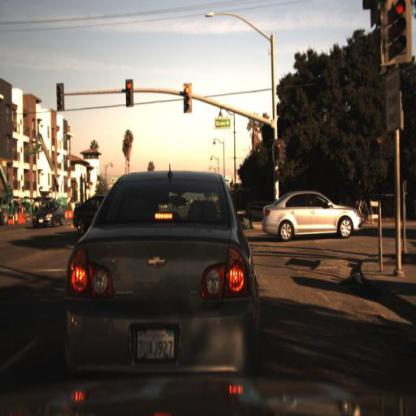car: (52, 165, 265, 410), (261, 188, 367, 246), (31, 199, 69, 233)
trafficLight: (183, 82, 193, 117), (56, 84, 66, 111)
trafficLight-Red: (381, 1, 416, 77), (274, 136, 285, 166), (125, 78, 135, 109)
